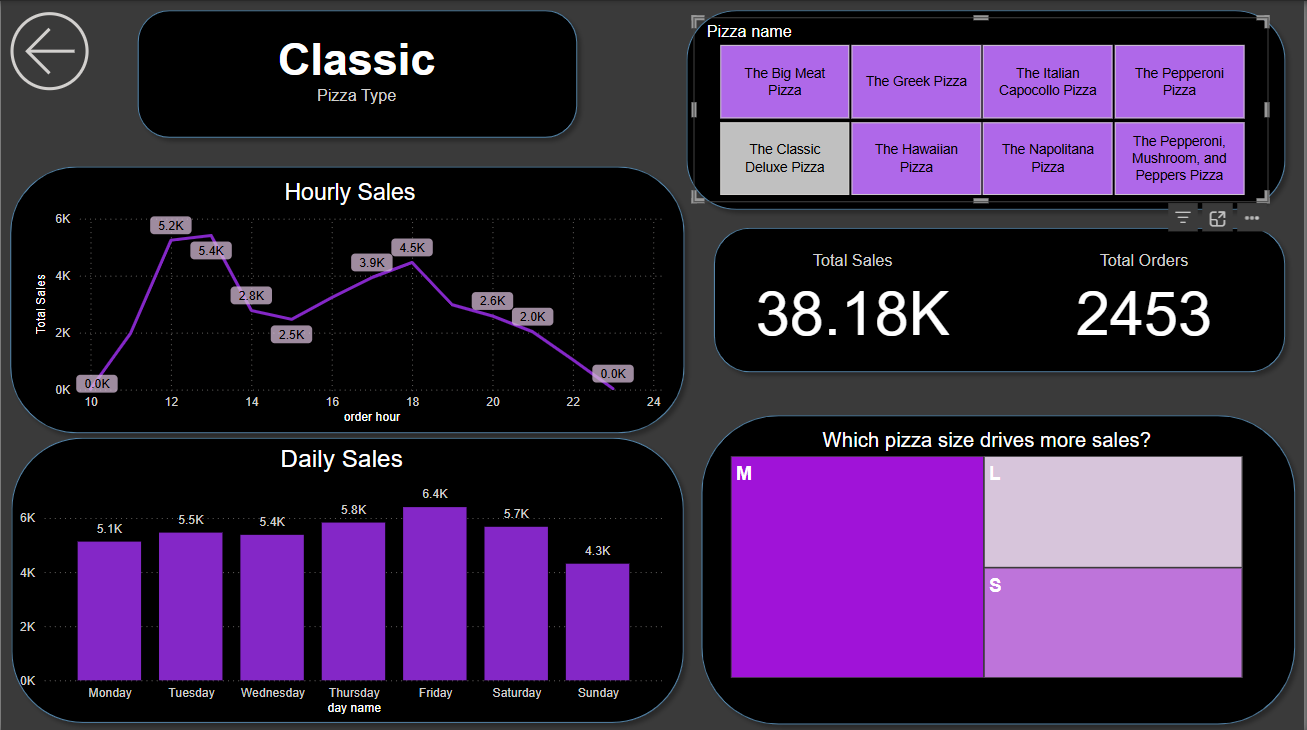

The page's visual inventory and layout, read from the dashboard file:
{"tool":"powerbi","page":{"name":"dashboard","canvas":[1280,720],"ordinal":4},"visuals":[{"type":"shape","box":[0.3,153.8,680,280],"z":0,"group":"g1"},{"type":"group","id":"g1","title":"bg2","box":[0.3,153.8,1279.7,565.4],"z":500,"group":"g2"},{"type":"shape","box":[125.1,0,449.4,143.3],"z":1000,"group":"g2"},{"type":"shape","box":[1.7,420.2,678,298],"z":1000,"group":"g1"},{"type":"group","id":"g2","title":"Group 1","box":[0.3,0,1279.7,719.2],"z":1500},{"type":"shape","box":[664.3,0,606,214],"z":2000,"group":"g2"},{"type":"shape","box":[679.2,397.5,600.9,321.7],"z":2000,"group":"g1"},{"type":"treemap","title":"Which pizza size drives more  sales?","fields":{"Group":["pizza_sales.pizza_size"],"Values":["Sum(pizza_sales.total_price)"]},"box":[712,420,512,250],"z":2000},{"type":"actionButton","box":[0,0,95.3,98.7],"z":3000},{"type":"shape","box":[691.1,213.7,578.7,160],"z":3000,"group":"g1"},{"type":"card","fields":{"Values":["Min(pizza_sales.pizza_category)"]},"box":[135,0,428.5,128],"z":4000},{"type":"slicer","fields":{"Values":["pizza_sales.pizza_name"]},"box":[679.8,16,564.4,181.6],"z":5000},{"type":"columnChart","title":"Daily Sales","fields":{"Category":["pizza_sales.day name"],"Y":["Sum(pizza_sales.total_price)"]},"box":[14,436,642,270],"z":6000},{"type":"lineChart","title":"Hourly Sales","fields":{"Category":["pizza_sales.order hour"],"Y":["Sum(pizza_sales.total_price)"]},"box":[30,174,626,246],"z":7000},{"type":"cardVisual","fields":{"Data":["Sum(pizza_sales.total_price)","Sum(pizza_sales.quantity)"]},"box":[691.5,214.3,574.6,158.6],"z":8000}]}

Visuals, with their boxes in screenshot pixels (x1, y1, x2, y2), scaled from the page's 1280x720 canvas onto the 1307x730 screenshot:
shape: 0,156,695,440
"bg2" group: 0,156,1306,729
shape: 128,0,587,145
shape: 2,426,694,728
"Group 1" group: 0,0,1306,729
shape: 678,0,1297,217
shape: 694,403,1306,729
"Which pizza size drives more  sales?" treemap: 727,426,1250,679
actionButton: 0,0,97,100
shape: 706,217,1297,379
card - Min(pizza_sales.pizza_category): 138,0,575,130
slicer - pizza_sales.pizza_name: 694,16,1270,200
"Daily Sales" columnChart: 14,442,670,716
"Hourly Sales" lineChart: 31,176,670,426
cardVisual - Sum(pizza_sales.total_price) x Sum(pizza_sales.quantity): 706,217,1293,378
